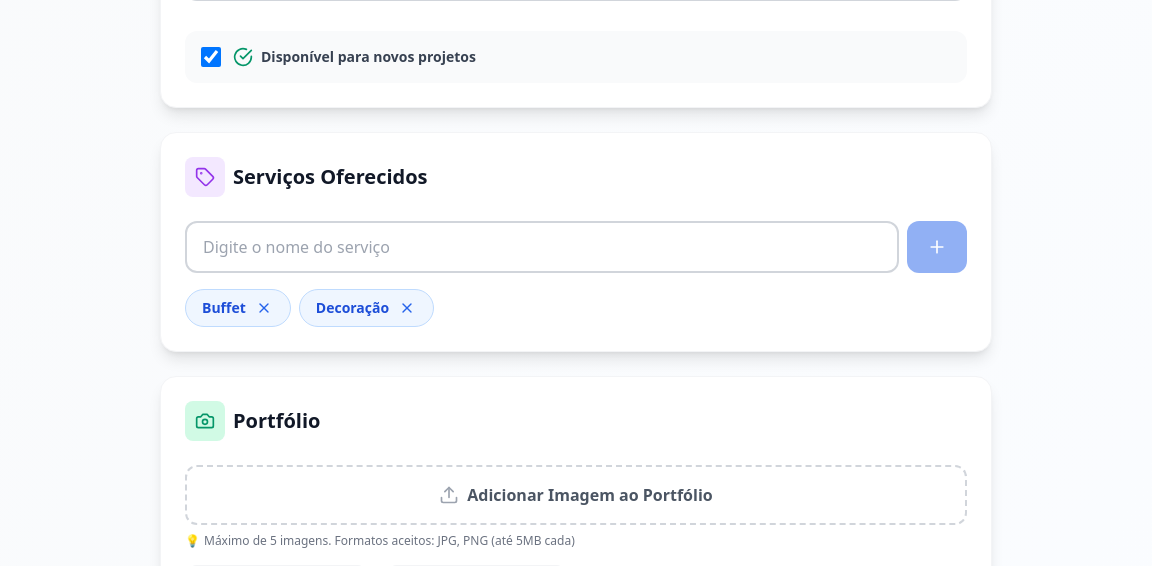
it: SupplierProfileEdit › should remove service
The width and height of the screenshot is (1152, 566).
(page scrolled)
Expected: the text "Buffet" is shown, [202,298,246,318]
Click the button without text next to "Buffet".
click(264, 308)  # box [254,298,274,318]
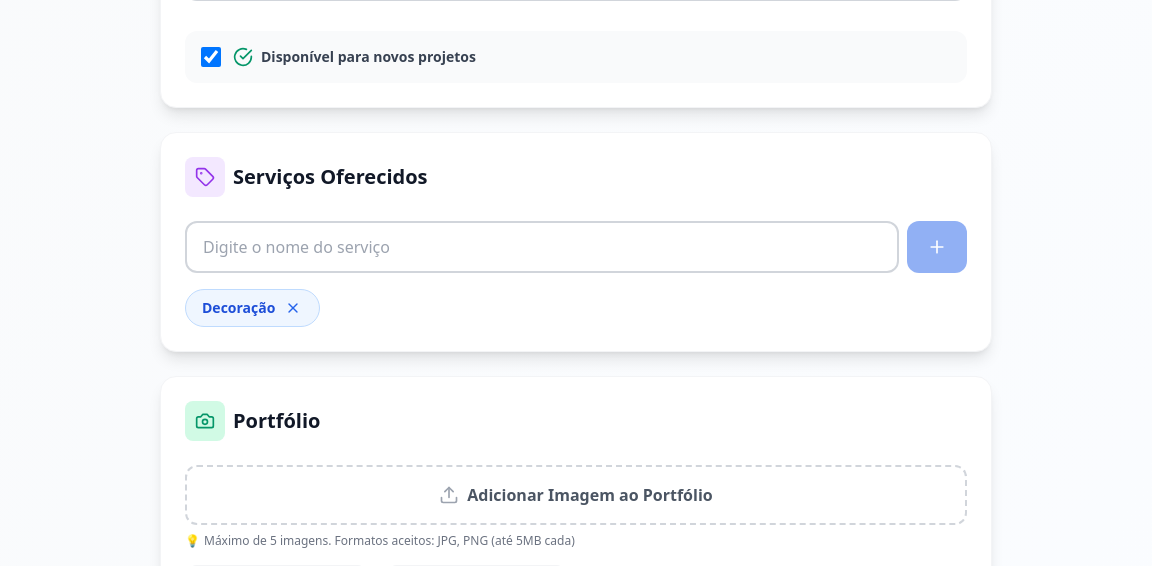
Expected: the text "Buffet" is gone
